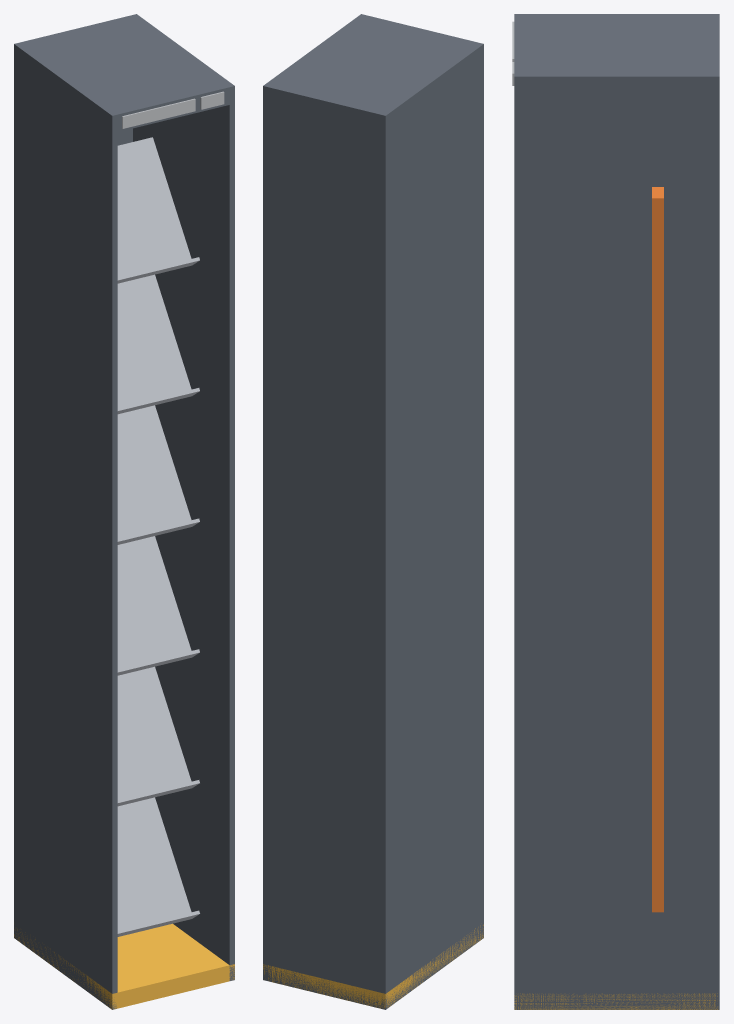
Rendered from decoy_rack_body.glb.
3 renders of one model, left to right at view 1: azimuth 30°, elevation 25°; view 2: azimuth 150°, elevation 25°; view 3: azimuth 270°, elevation 25°, orthographic. The views are drawn at different scales.
Parts seen in each view (by area): view 1: DecoyRackBody; view 2: DecoyRackBody; view 3: DecoyRackBody.
Part boxes in pixels (bbox=[...]): DecoyRackBody: bbox=[14, 14, 234, 1009]; DecoyRackBody: bbox=[263, 14, 483, 1009]; DecoyRackBody: bbox=[512, 14, 719, 1009].
Bounding box in the file's own units: 0.378 × 2.23 × 0.448.
